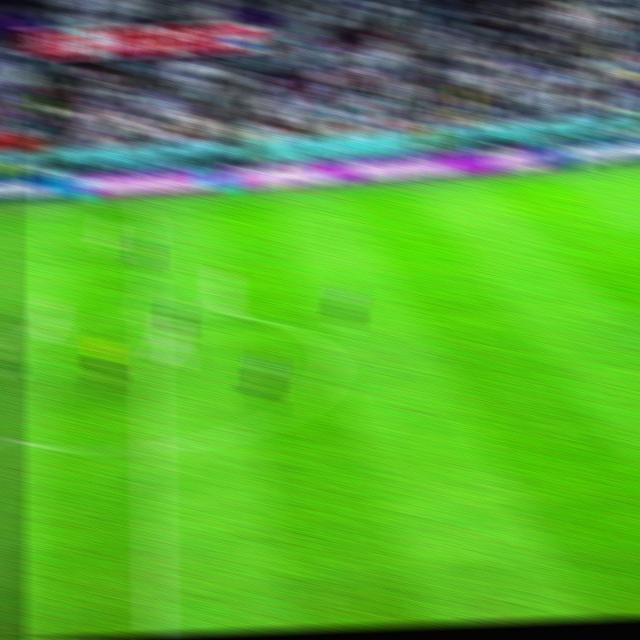halfcircle_bottom: (132, 431, 168, 466)
halfcircle_top: (134, 302, 163, 326)
midline_top_intersection: (132, 194, 160, 216)
